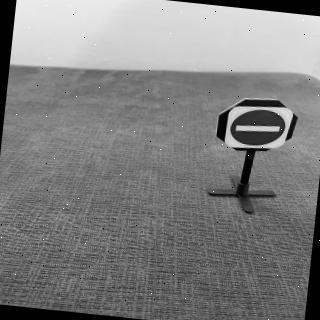sign_noentry: (223, 101, 296, 156)
